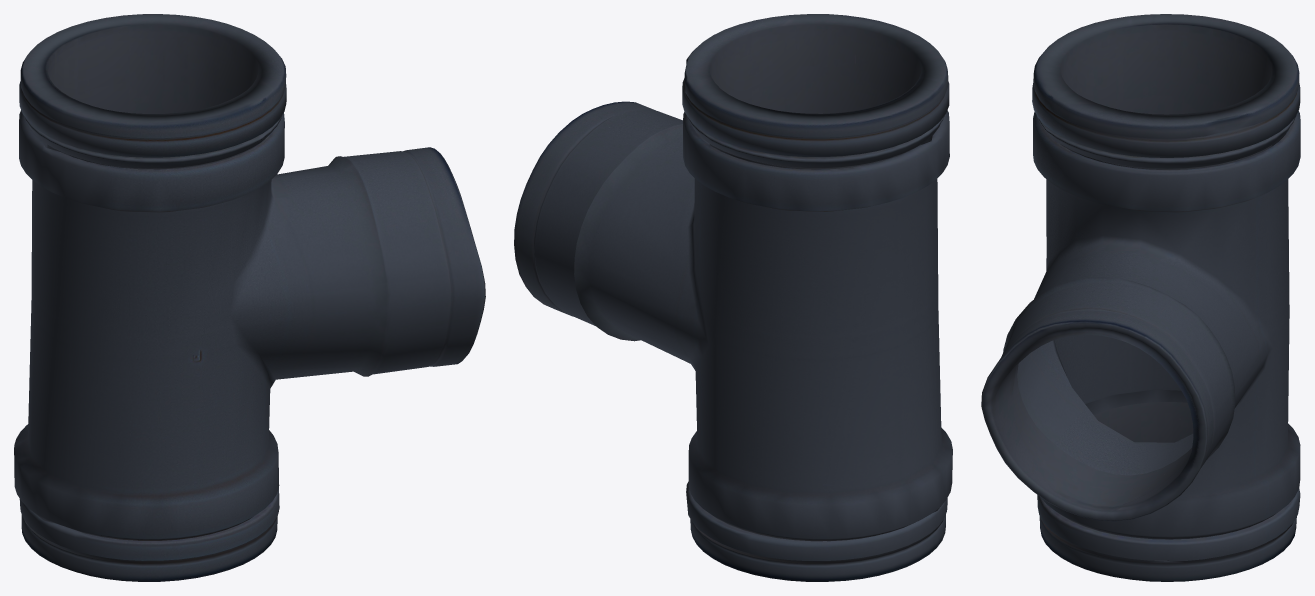
The model's file is T fitting.glb.
The picture shows the model from 3 angles, left to right: view 1: azimuth 30°, elevation 25°; view 2: azimuth 150°, elevation 25°; view 3: azimuth 270°, elevation 25°; orthographic projection.
Parts seen in each view (by area): view 1: tripo_node_1ac5072c-4171-4496-90d2-f3dd10b0e08f; view 2: tripo_node_1ac5072c-4171-4496-90d2-f3dd10b0e08f; view 3: tripo_node_1ac5072c-4171-4496-90d2-f3dd10b0e08f.
Boxes of the visible parts, box(x1,y1,x2,y2) form: tripo_node_1ac5072c-4171-4496-90d2-f3dd10b0e08f: box(14, 14, 485, 581); tripo_node_1ac5072c-4171-4496-90d2-f3dd10b0e08f: box(514, 14, 952, 581); tripo_node_1ac5072c-4171-4496-90d2-f3dd10b0e08f: box(981, 14, 1300, 581).
Bounding box in the file's own units: 0.9194 × 0.9995 × 0.6284.
1 material, 1 textured.
